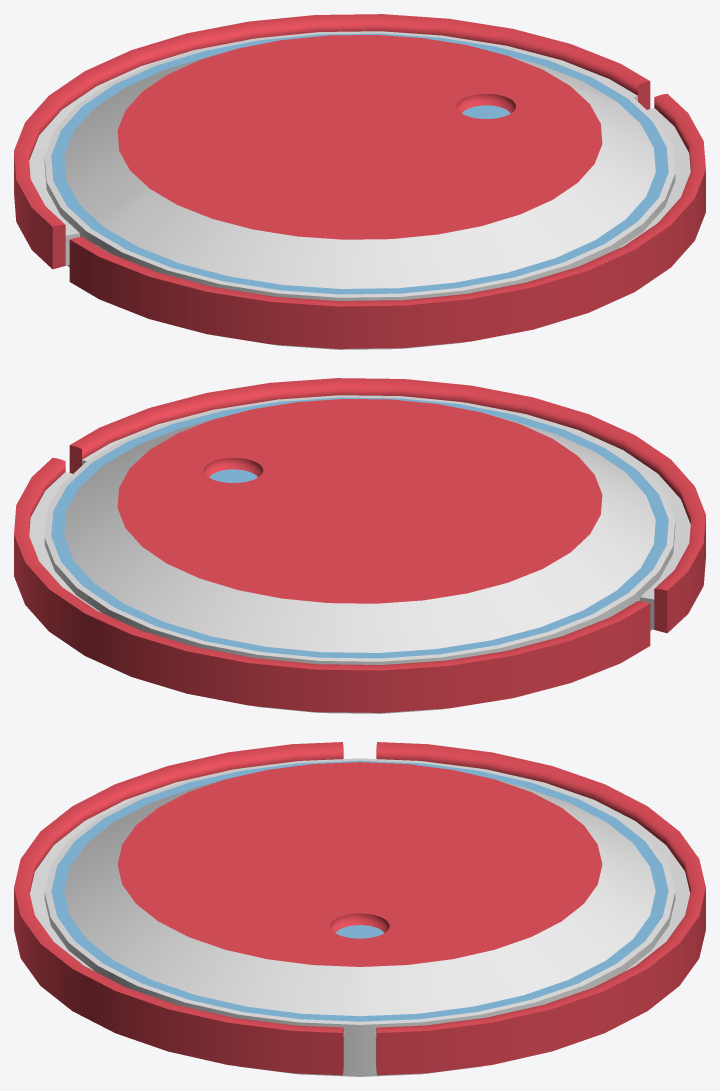
File: Aspirateur.fbx
The picture shows the model from 3 angles, top to bottom: view 1: azimuth 30°, elevation 25°; view 2: azimuth 150°, elevation 25°; view 3: azimuth 270°, elevation 25°; orthographic projection.
Parts seen in each view (by area): view 1: Cylinder.001; view 2: Cylinder.001; view 3: Cylinder.001.
Part boxes in pixels (x1=…): Cylinder.001: x1=14, y1=14, x2=705, y2=349; Cylinder.001: x1=14, y1=378, x2=705, y2=713; Cylinder.001: x1=14, y1=742, x2=705, y2=1076.
Size of the model in its own units: 218 by 27.69 by 219.
